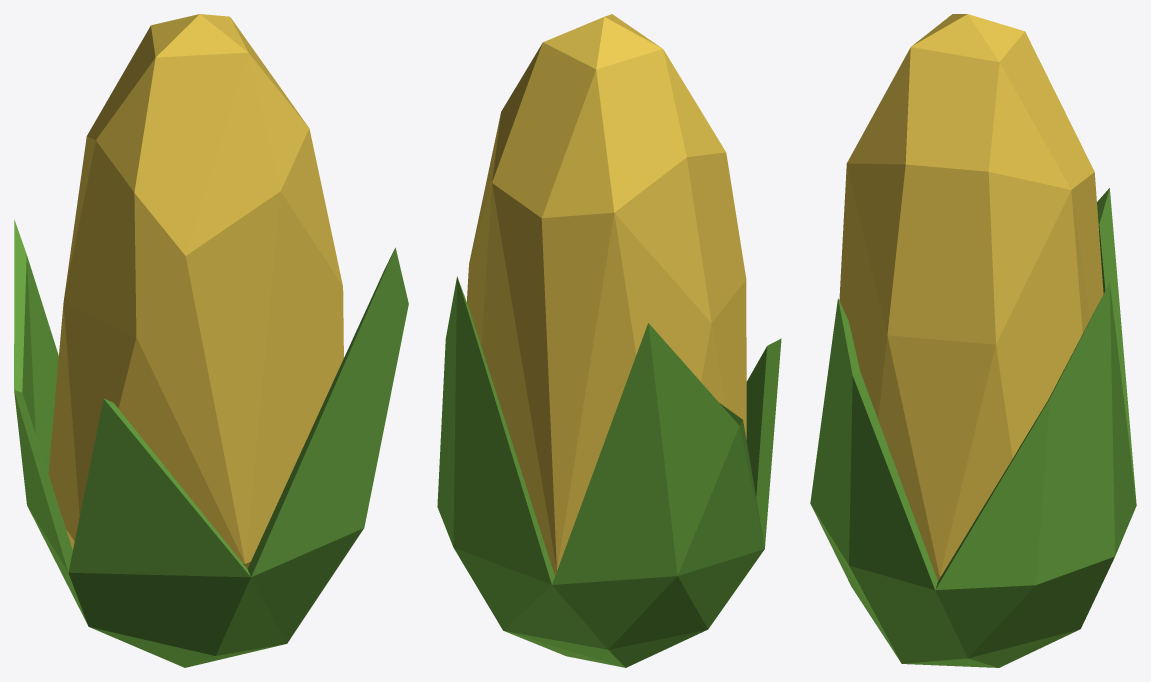
File: corn.fbx
3 renders of one model, left to right at view 1: azimuth 30°, elevation 25°; view 2: azimuth 150°, elevation 25°; view 3: azimuth 270°, elevation 25°, orthographic.
Visible parts, largest first — view 1: Sphere.001; view 2: Sphere.001; view 3: Sphere.001.
Boxes of the visible parts, x1,y1,x2,y2 form: Sphere.001: (14, 14, 408, 667); Sphere.001: (437, 14, 781, 667); Sphere.001: (810, 14, 1136, 667).
Size of the model in its own units: 35.57 by 69.35 by 31.91.
